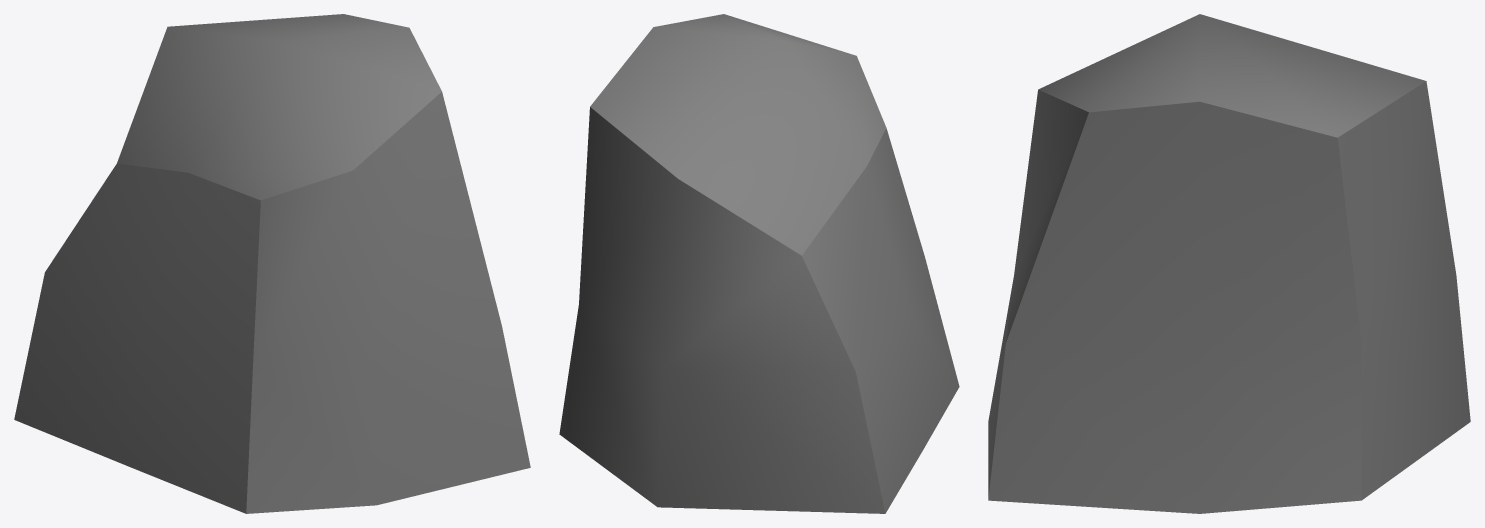
File: JaggedRock.FBX
3 renders of one model, left to right at view 1: azimuth 30°, elevation 25°; view 2: azimuth 150°, elevation 25°; view 3: azimuth 270°, elevation 25°, orthographic. The views are drawn at different scales.
Parts seen in each view (by area): view 1: Box001; view 2: Box001; view 3: Box001.
Boxes of the visible parts, box(x1,y1,x2,y2) form: Box001: box(14, 14, 530, 513); Box001: box(559, 14, 959, 513); Box001: box(988, 14, 1470, 513).
Bounding box in the file's own units: 0.8717 × 0.8902 × 0.9543.
1 material, 1 textured.
